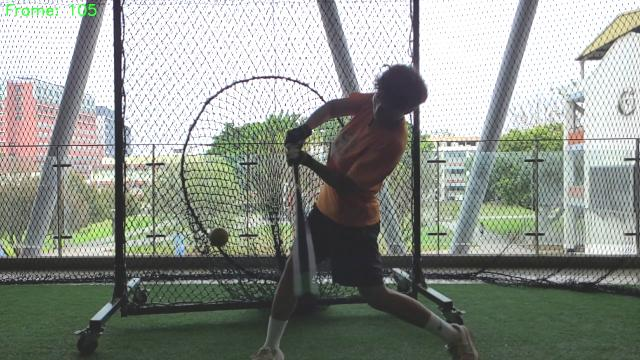ball: (208, 228, 228, 246)
bat: (292, 164, 321, 300)
